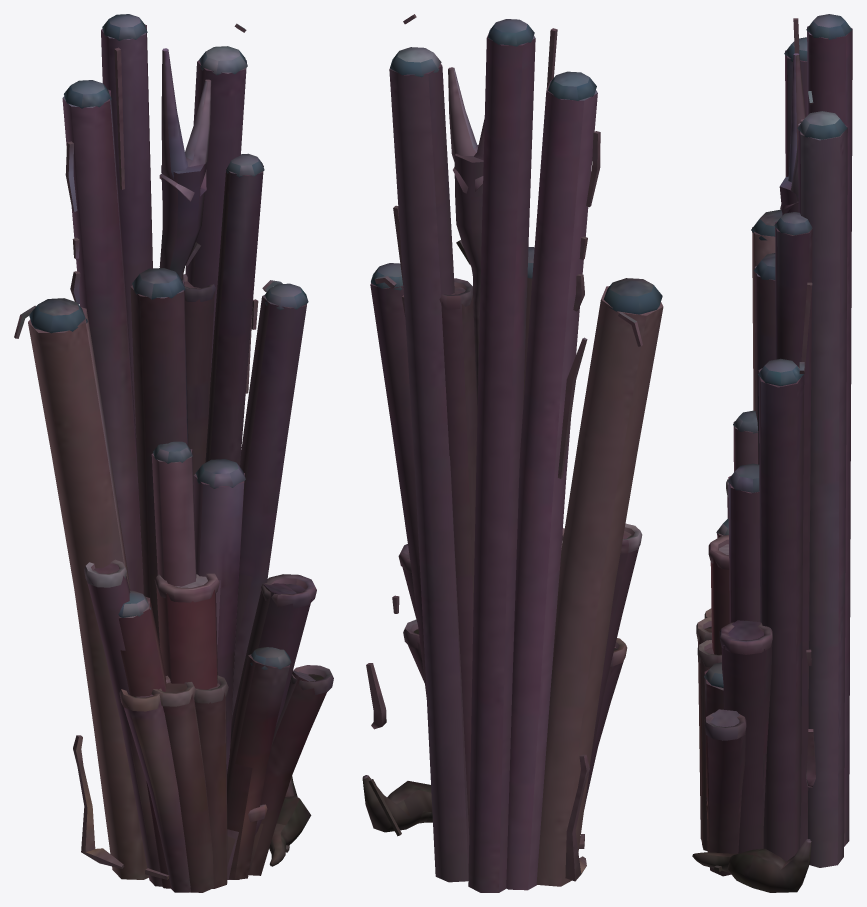
File: slipstack.glb
The picture shows the model from 3 angles, left to right: view 1: azimuth 30°, elevation 25°; view 2: azimuth 150°, elevation 25°; view 3: azimuth 270°, elevation 25°; orthographic projection. The views are drawn at different scales.
Visible parts, largest first — view 1: body; view 2: body; view 3: body.
Part boxes in pixels (x1,y1,x2,y2): body: (14, 14, 333, 892); body: (362, 14, 663, 892); body: (692, 14, 852, 892).
Size of the model in its own units: 2.25 by 6.54 by 1.16.
1 material, 1 textured.
